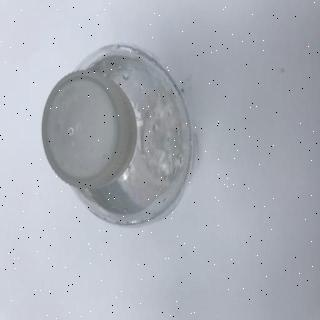Plastic-bottle: (42, 43, 195, 228)
